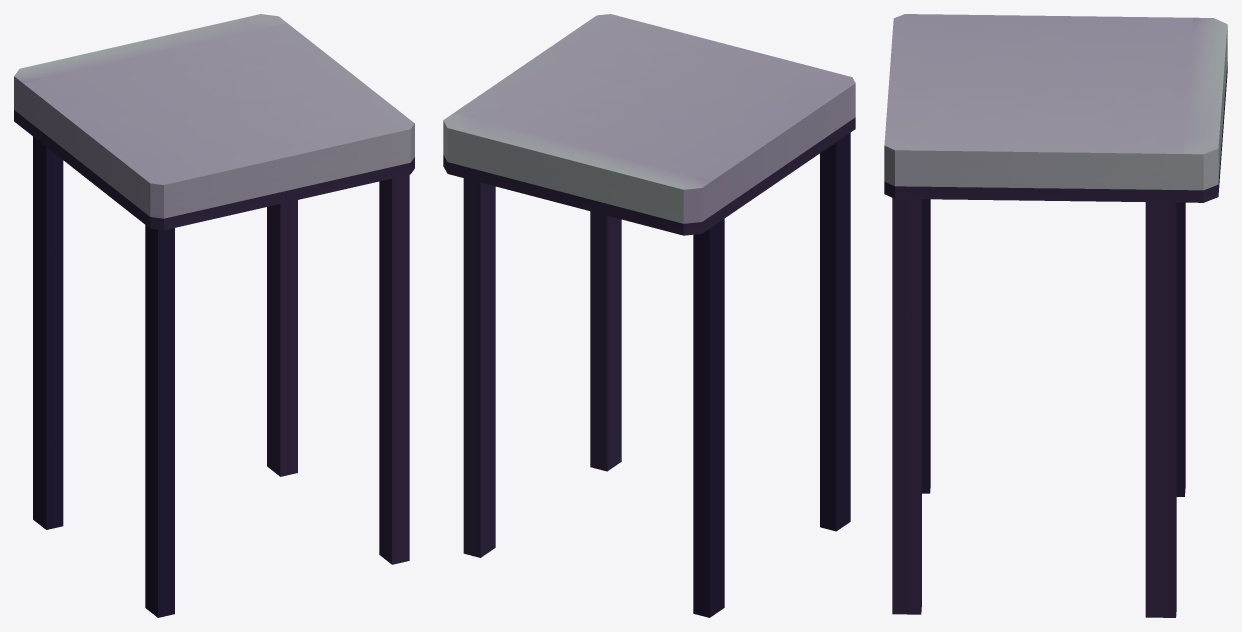
The model's file is Fader_Stool.fbx.
3 views of the same model, side by side, from view 1: azimuth 30°, elevation 25°; view 2: azimuth 150°, elevation 25°; view 3: azimuth 270°, elevation 25° (orthographic). The views are drawn at different scales.
Visible parts, largest first — view 1: Chair_WhiteLegs.002; view 2: Chair_WhiteLegs.002; view 3: Chair_WhiteLegs.002.
Boxes of the visible parts, left/top/right/bottom form: Chair_WhiteLegs.002: left=14, top=14, right=414, bottom=617; Chair_WhiteLegs.002: left=443, top=14, right=855, bottom=617; Chair_WhiteLegs.002: left=884, top=14, right=1227, bottom=617.
Bounding box in the file's own units: 35.94 × 55.82 × 37.14.
